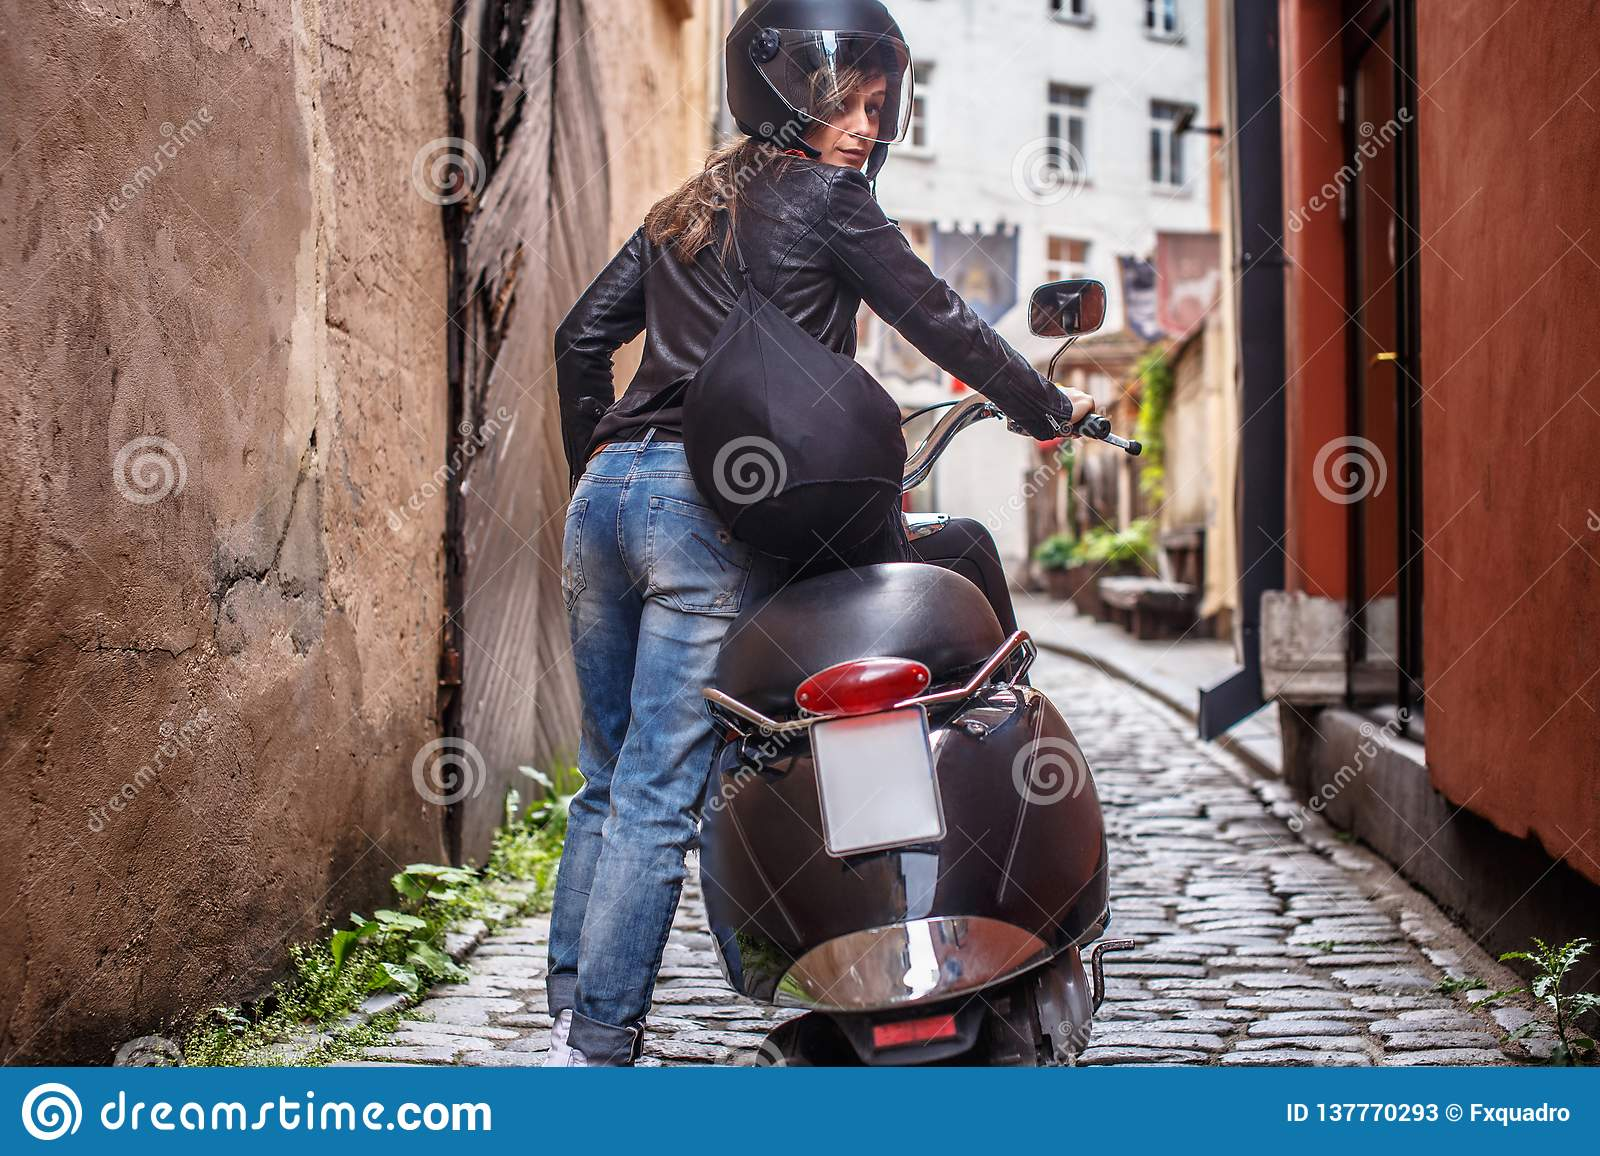helmet: (723, 9, 920, 143)
